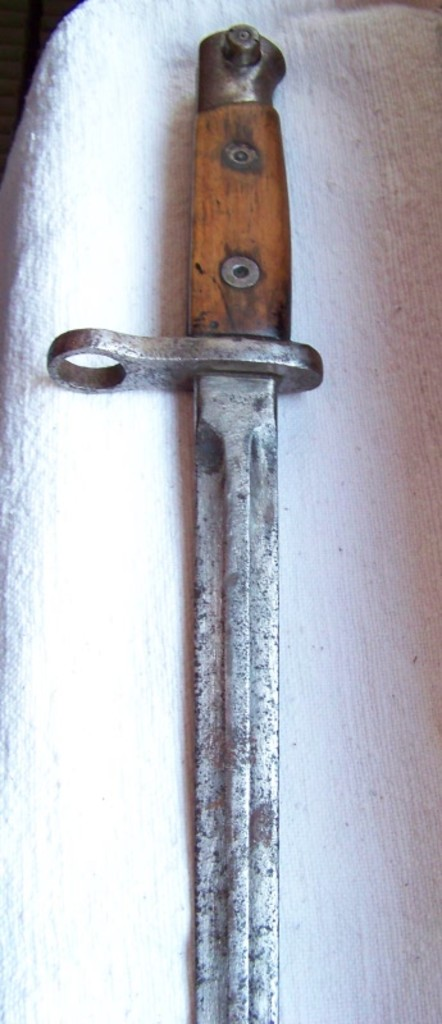face: (187, 60, 285, 374)
